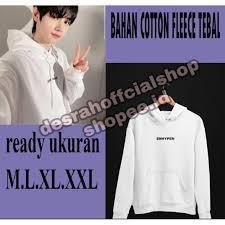sweater: (113, 102, 211, 219), (1, 27, 88, 124)
